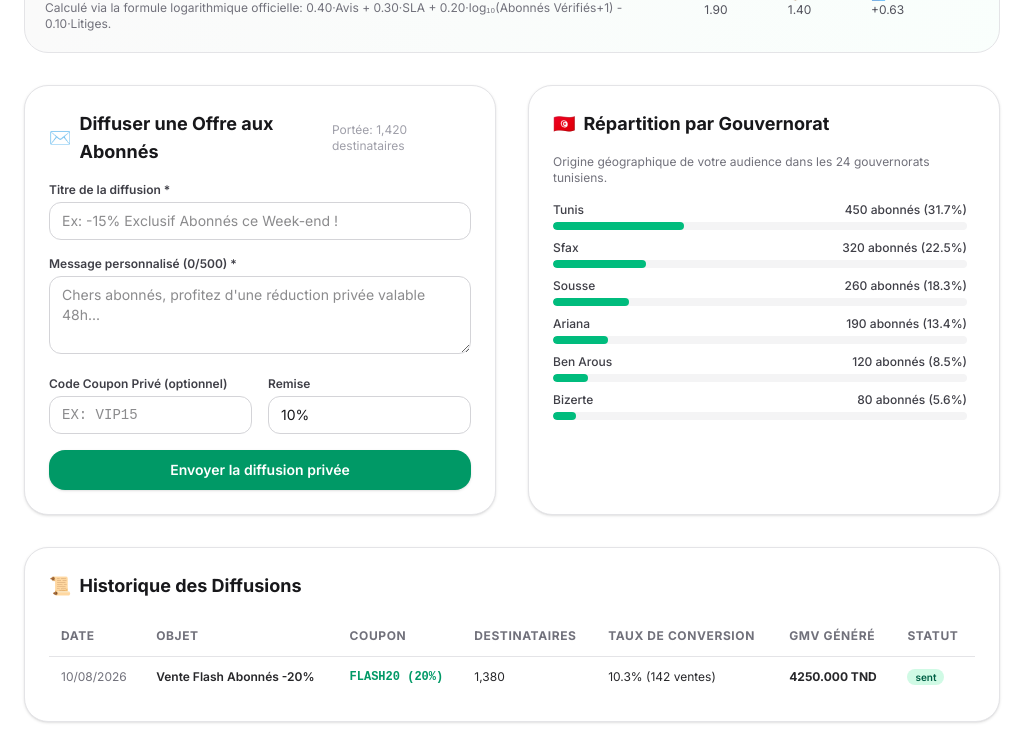
Test: Feature 20: Seller Loyalty Dashboard & Broadcasts (R5) › Tier 2: Boundary States & Rate Limiting › T2.5: blocks submission when title or message is empty with validation message
This screenshot has width=1024, height=746.
(page scrolled)
Click the button with test id "btn-submit-broadcast" at [260, 470], box [49, 450, 471, 490]
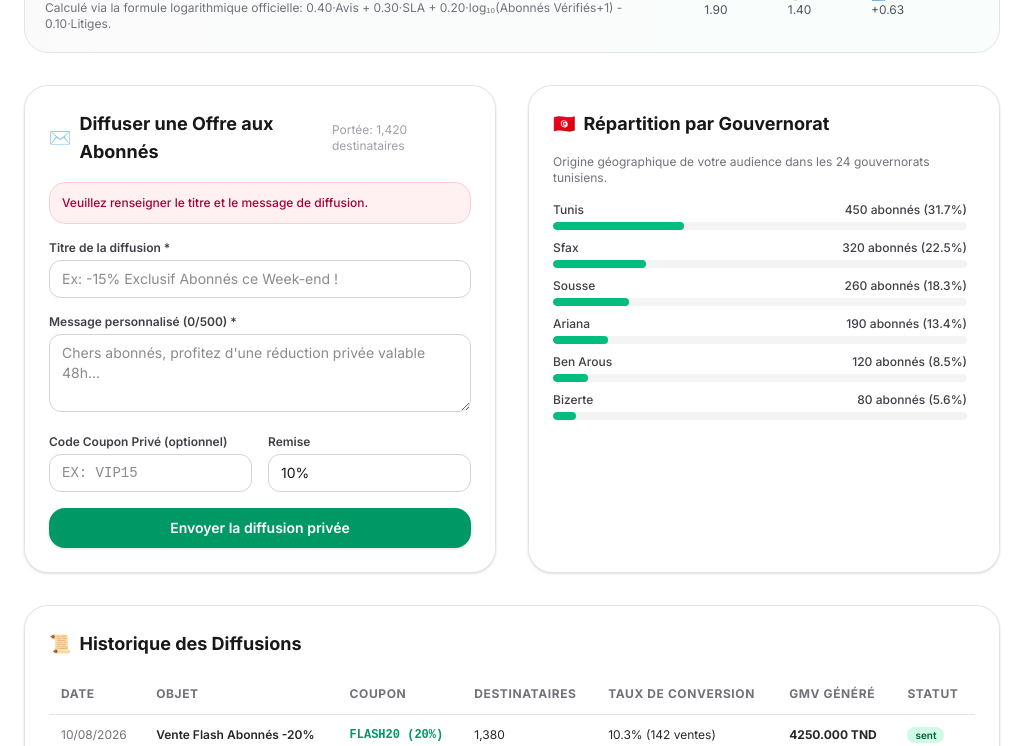
Expected: the message reads "Veuillez renseigner le titre et le message de diffusion.", [62, 195, 368, 210]
